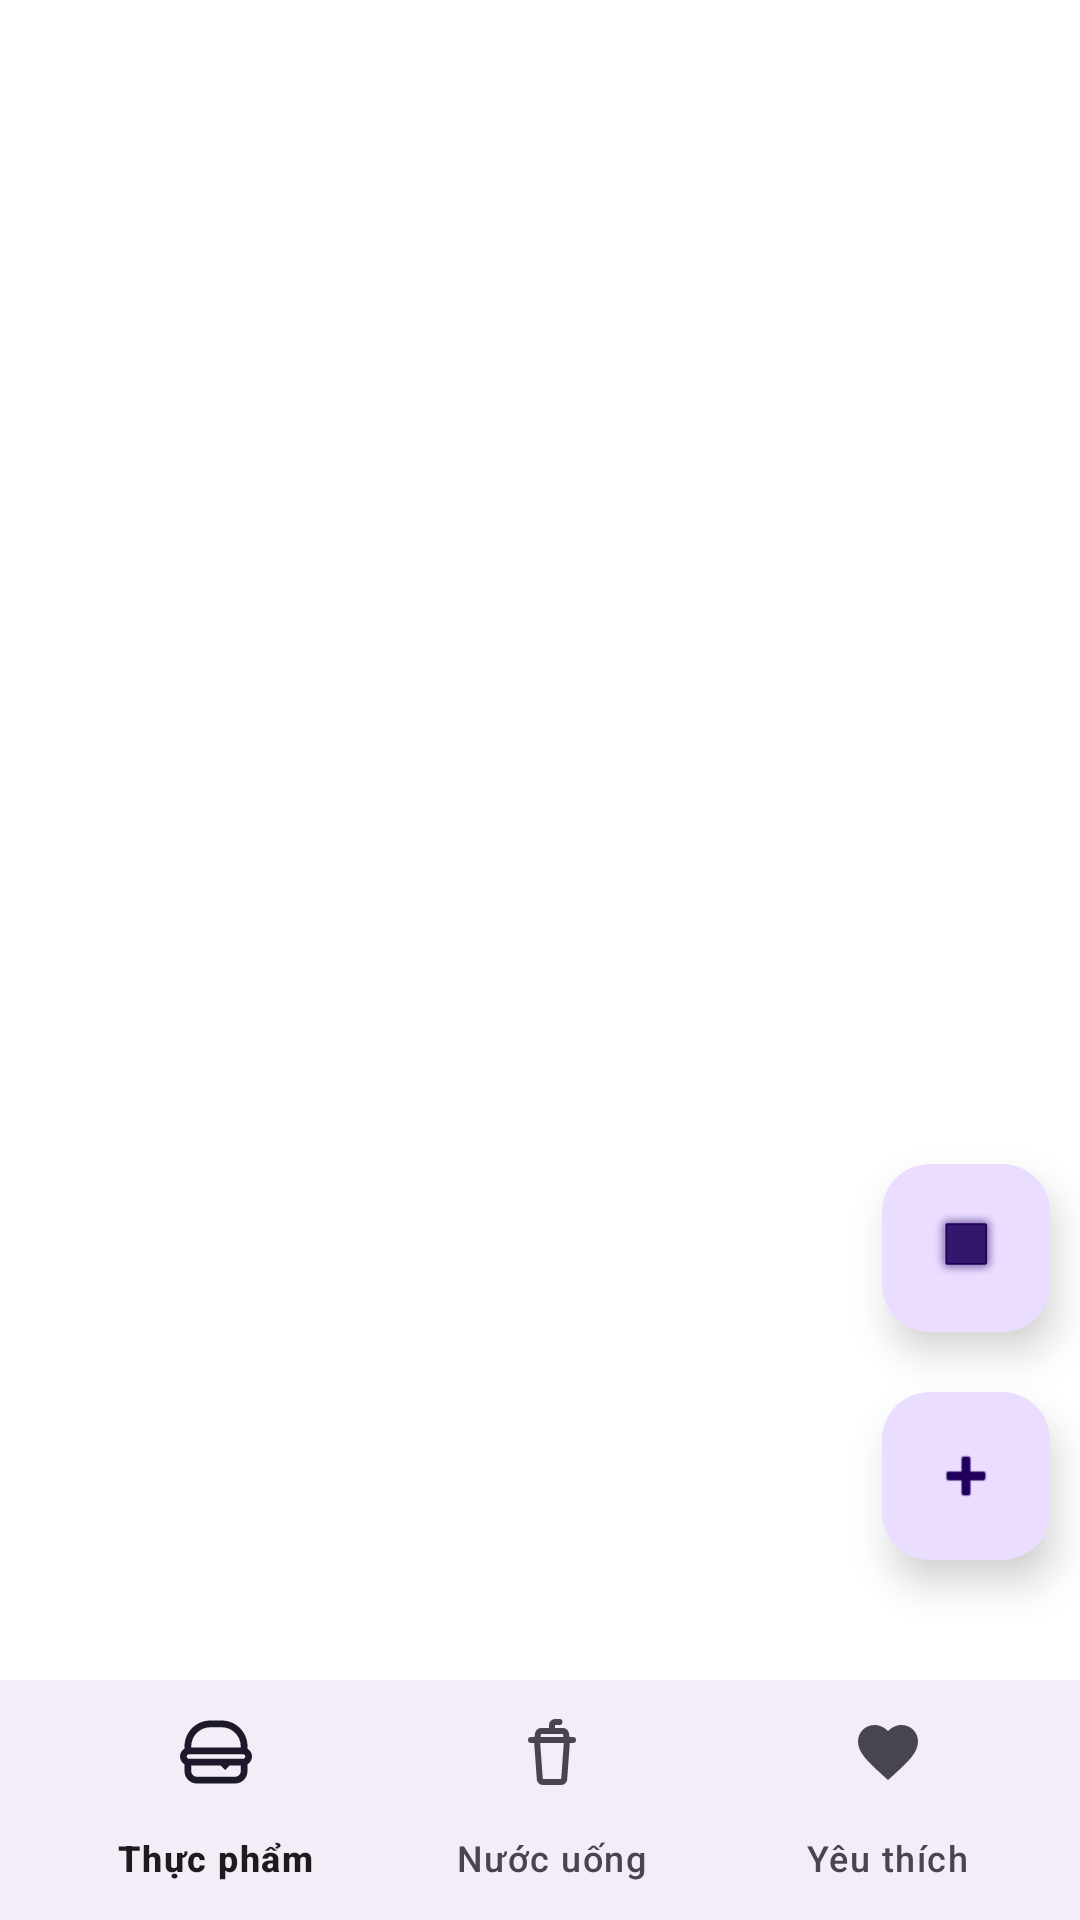

Screen size 1080 × 1920. Icon name, then its center in pixels as (x=x, y=y):
add: (x=966, y=1476)
